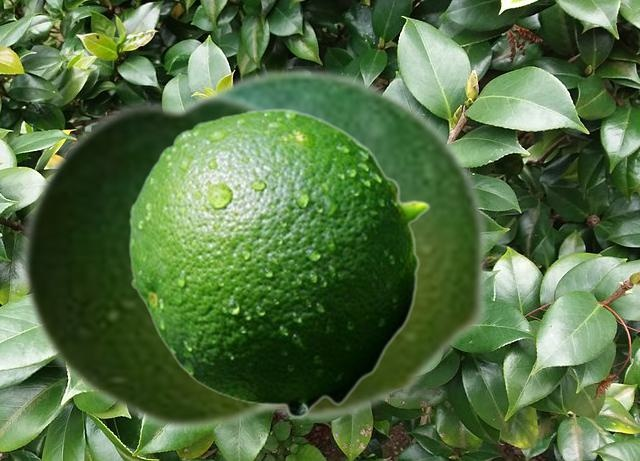dalandan: (186, 66, 490, 423), (128, 107, 429, 418), (17, 87, 281, 435)
